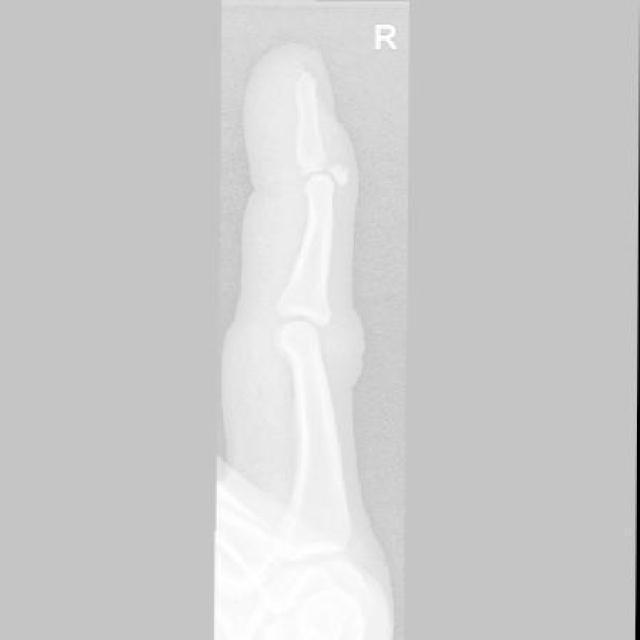Fracture: (313, 148, 350, 188)
